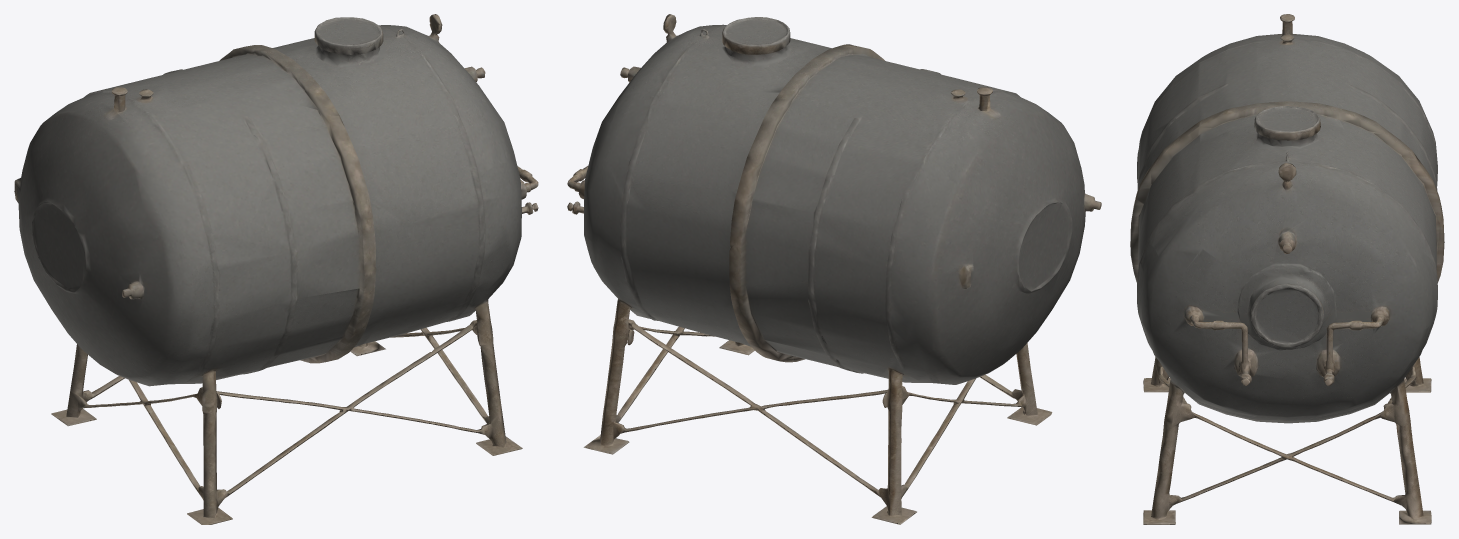
The model's file is gas_sphere.glb.
The picture shows the model from 3 angles, left to right: view 1: azimuth 30°, elevation 25°; view 2: azimuth 150°, elevation 25°; view 3: azimuth 270°, elevation 25°; orthographic projection. The views are drawn at different scales.
Size of the model in its own units: 1.9 by 1.54 by 1.21.
Materials: 1 (1 with a texture image).
